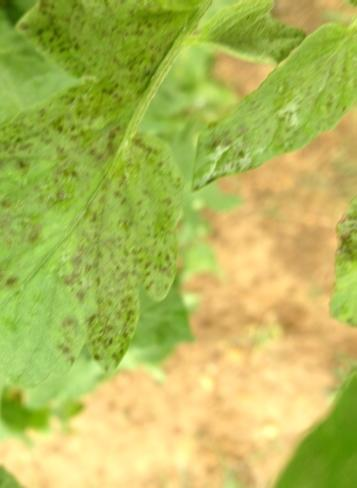Tomato Septoria leaf spot: (0, 98, 170, 377), (200, 21, 357, 197), (0, 0, 283, 80)
